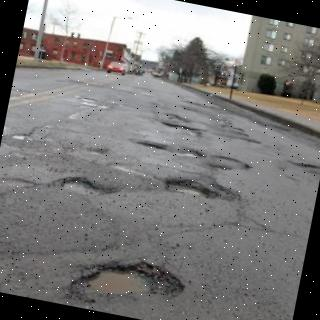pothole: (79, 262, 184, 298), (127, 136, 205, 163), (58, 174, 114, 193), (166, 179, 215, 198)
